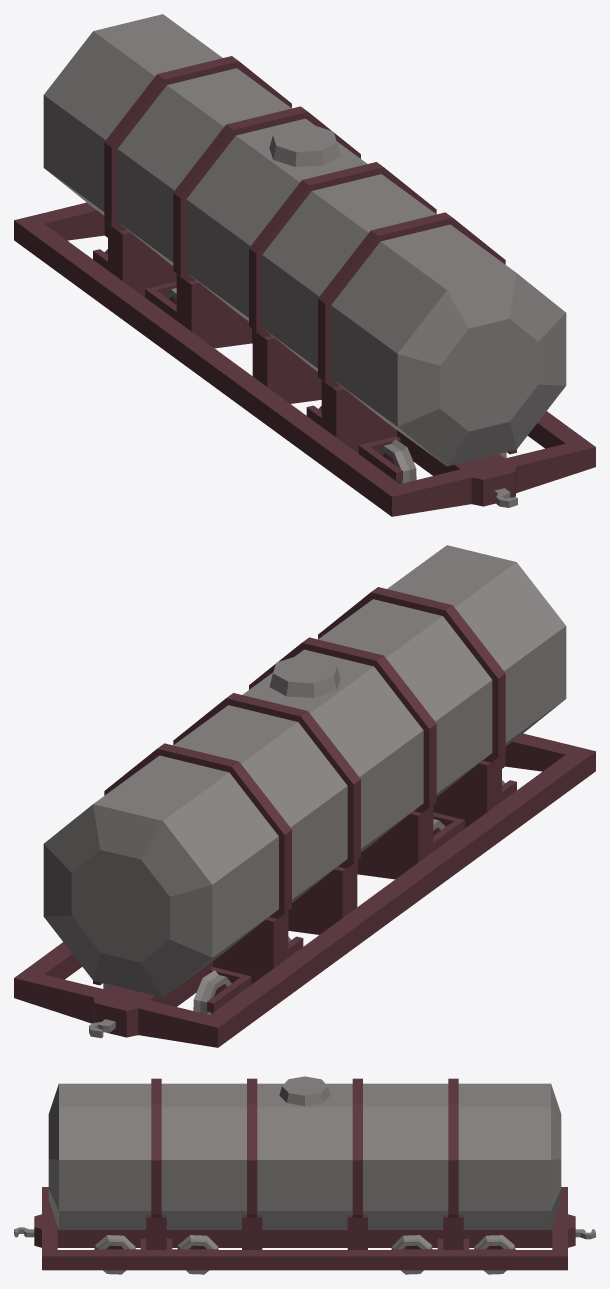
The model's file is train-wagon-oil.fbx.
The picture shows the model from 3 angles, top to bottom: view 1: azimuth 30°, elevation 25°; view 2: azimuth 150°, elevation 25°; view 3: azimuth 270°, elevation 25°; orthographic projection. The views are drawn at different scales.
Parts seen in each view (by area): view 1: train-wagon-oil-base, train-wagon-oil-wheel-front_F, train-wagon-oil-wheel_F1, train-wagon-oil-wheel-front_B; view 2: train-wagon-oil-base, train-wagon-oil-wheel-front_B, train-wagon-oil-wheel_B2, train-wagon-oil-wheel-front_F; view 3: train-wagon-oil-base, train-wagon-oil-wheel_B2, train-wagon-oil-wheel_F1, train-wagon-oil-wheel_B1, train-wagon-oil-wheel_F2.
Boxes of the visible parts, x1,y1,x2,y2 form: train-wagon-oil-base: [14, 14, 595, 516]; train-wagon-oil-wheel-front_F: [306, 405, 516, 481]; train-wagon-oil-wheel_F1: [378, 439, 506, 483]; train-wagon-oil-wheel-front_B: [93, 249, 176, 320]; train-wagon-oil-base: [14, 545, 595, 1047]; train-wagon-oil-wheel-front_B: [93, 936, 303, 1012]; train-wagon-oil-wheel_B2: [103, 970, 231, 1014]; train-wagon-oil-wheel-front_F: [433, 780, 516, 851]; train-wagon-oil-base: [14, 1076, 595, 1270]; train-wagon-oil-wheel_B2: [474, 1235, 515, 1274]; train-wagon-oil-wheel_F1: [94, 1235, 135, 1274]; train-wagon-oil-wheel_B1: [391, 1235, 432, 1274]; train-wagon-oil-wheel_F2: [177, 1235, 218, 1274].
Size of the model in its own units: 3.2 by 3.73 by 11.36.
